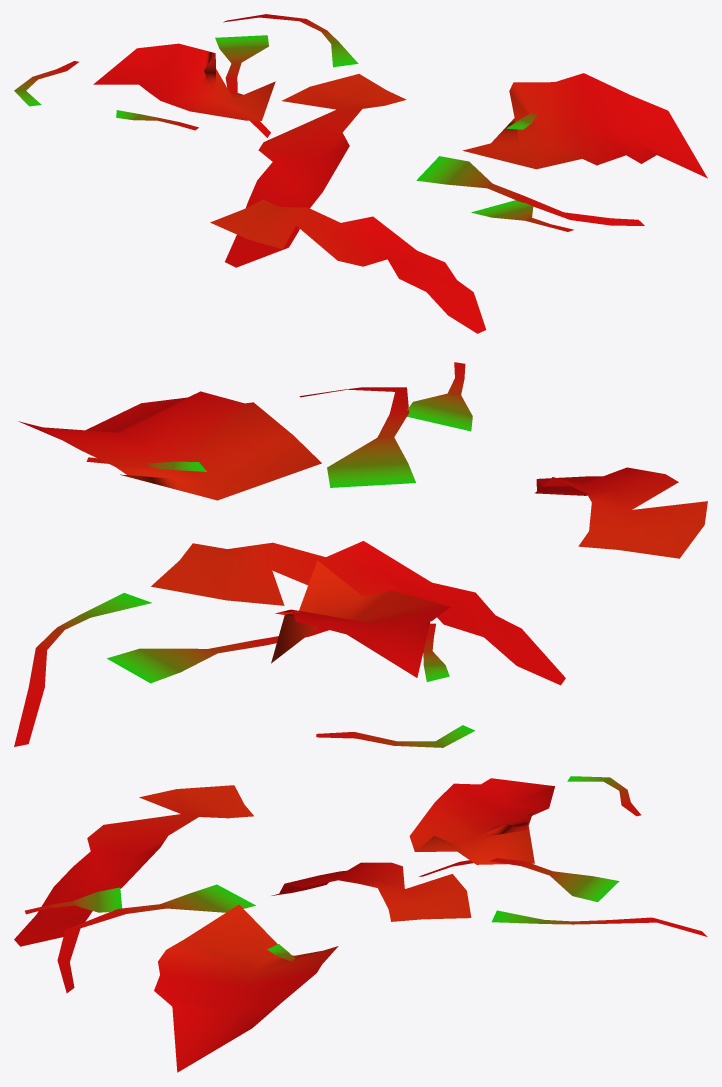
File: Xanadu_LOD0_Var9_siroZ.fbx
The picture shows the model from 3 angles, top to bottom: view 1: azimuth 30°, elevation 25°; view 2: azimuth 150°, elevation 25°; view 3: azimuth 270°, elevation 25°; orthographic projection. The views are drawn at different scales.
Visible parts, largest first — view 1: _0f7c_Var9_LOD0; view 2: _0f7c_Var9_LOD0; view 3: _0f7c_Var9_LOD0.
Part boxes in pixels (<box>): _0f7c_Var9_LOD0: <box>14,14,707,333</box>; _0f7c_Var9_LOD0: <box>14,362,707,747</box>; _0f7c_Var9_LOD0: <box>14,776,707,1072</box>.
Bounding box in the file's own units: 38.91 × 9.03 × 46.69.
